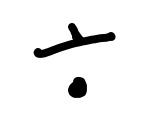div: (35, 21, 115, 95)
